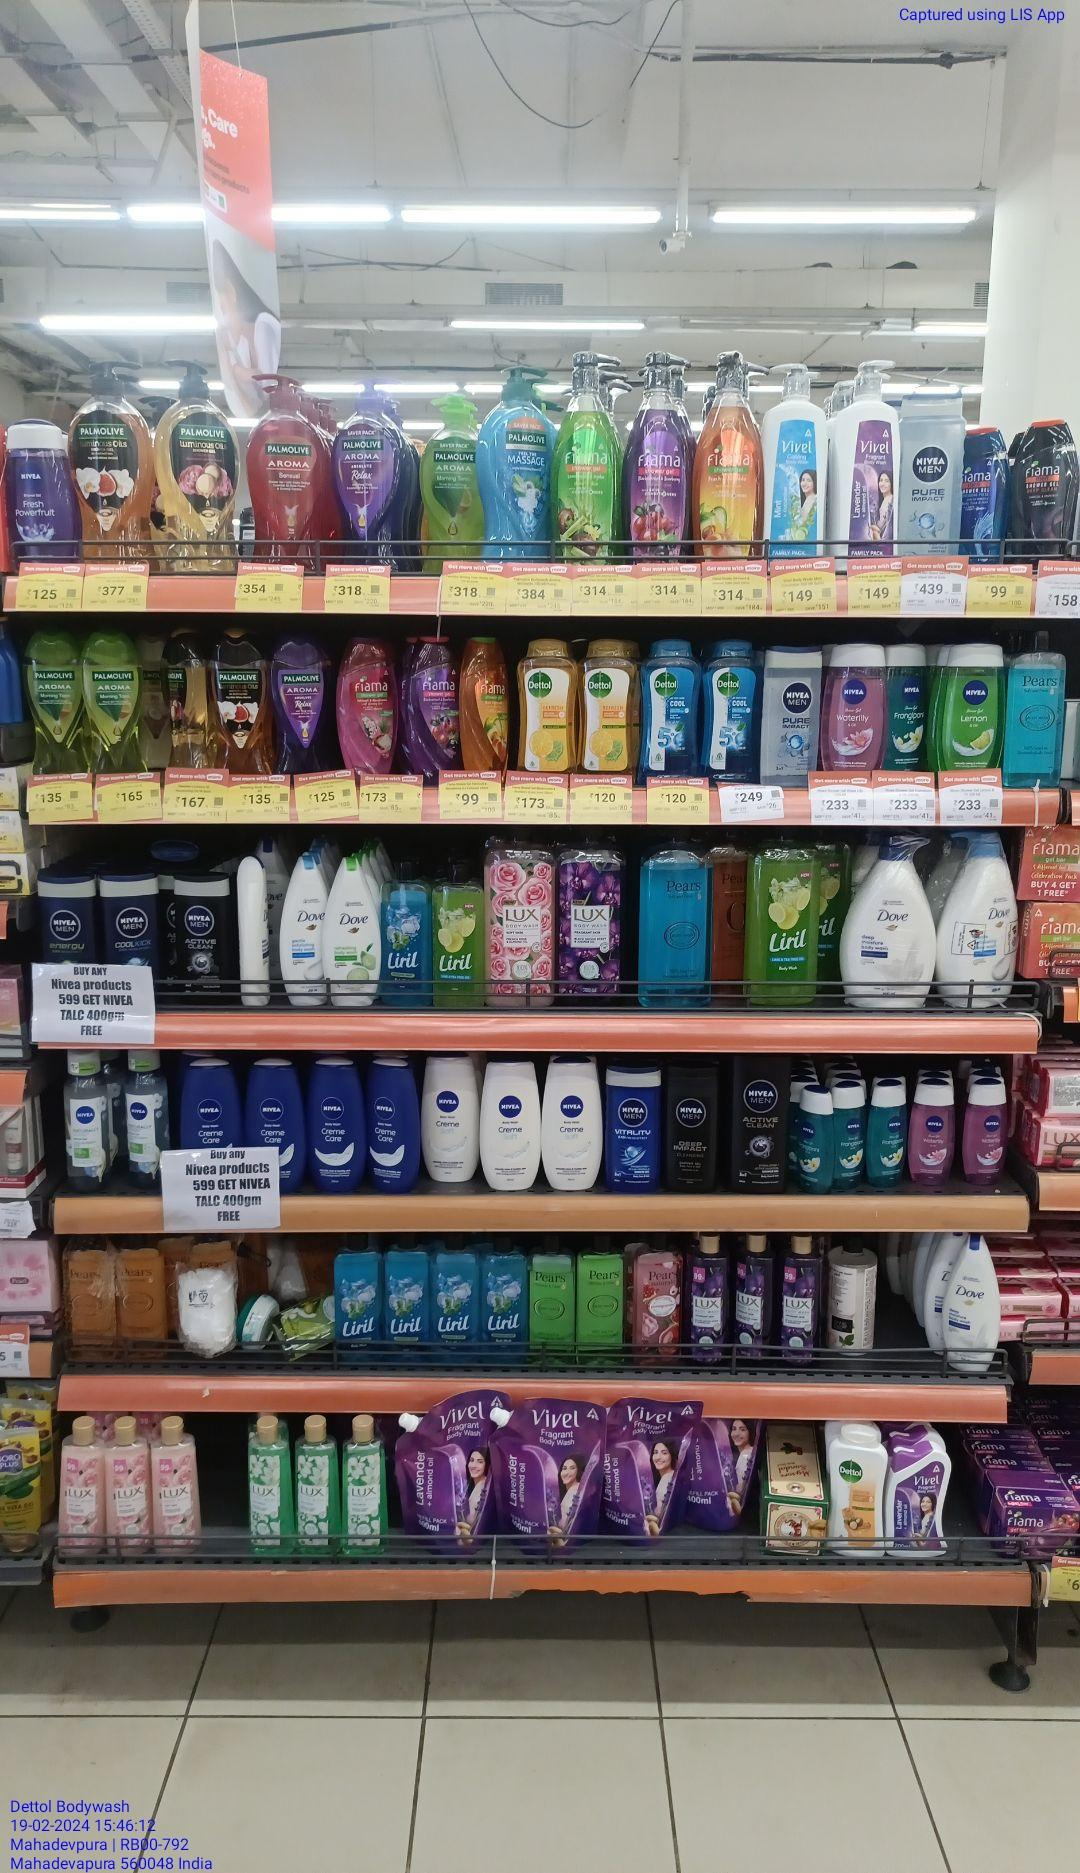Dettol_Bodywash_Cool: (642, 642, 701, 787), (703, 644, 759, 783)
Dettol_Bodywash_Refresh: (581, 634, 639, 774), (517, 635, 577, 768)
Dove_Gentle_Exfoliating_Body_Wash_250ML: (283, 855, 327, 1006)
Dove_Refreshing_Body_Wash_250ML: (332, 858, 382, 1006)
Fiama_Shower_Gel_Patchouli_and_Macadamia_250ML: (343, 639, 402, 782)
Fiama_Shower_Gel_Peach_and_Avocado_250ML: (459, 634, 509, 776)
Liril_Cooling_Mint_Body_Wash_250ML: (383, 1232, 433, 1369), (432, 1234, 482, 1369), (482, 1235, 528, 1365), (338, 1232, 381, 1366)
Lux_Black_Orchid_Scent_and_Juniper_Oil_Body_Wash_245ML: (732, 1229, 777, 1367), (685, 1231, 730, 1370), (777, 1235, 820, 1370)
Lux_Body_Wash_Skin_Detox_Freesia_Scent_and_Alove_Vera_245ML: (242, 1418, 293, 1571), (343, 1406, 391, 1568), (294, 1415, 338, 1560)
Nivea_Creme_Care_Body_Wash_250ML: (252, 1057, 309, 1192), (366, 1060, 422, 1192), (311, 1060, 365, 1191)
Nivea_Shower_Gel_Frangipani_and_Oil_250ML: (886, 641, 931, 771), (868, 1082, 910, 1191), (797, 1087, 834, 1194)
Nivea_Shower_Gel_Fresh_Powerfruit_250ML: (9, 421, 75, 563)
Nivea_Shower_Gel_Lemon_and_Oil_250ML: (940, 639, 1007, 772)
Nivea_Shower_Gel_Waterlily_and_Oil_250ML: (824, 644, 887, 776), (962, 1081, 1011, 1187)
Palmolive_Aroma_Morning_Tonic_Shower_Gel_250ML: (86, 633, 140, 774), (32, 635, 82, 772)
Palmolive_Aroma_Relax_250ML: (274, 634, 333, 774)
Palmolive_Luminous_Oils_With_White_Orchid_Shower_Gel_250ML: (207, 629, 271, 773)
Pears_Naturale_Aloe_Vera_Body_Wash_250ML: (577, 1240, 631, 1373), (530, 1234, 577, 1366)
Pears_Pure_Glycerin_and_Mint_Extracts_Body_Wash_250ML: (1009, 632, 1066, 790)
